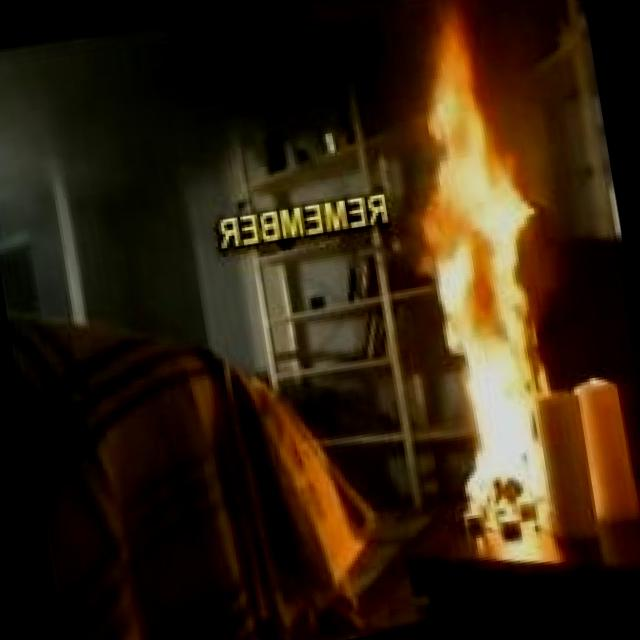fire: (363, 0, 599, 502)
